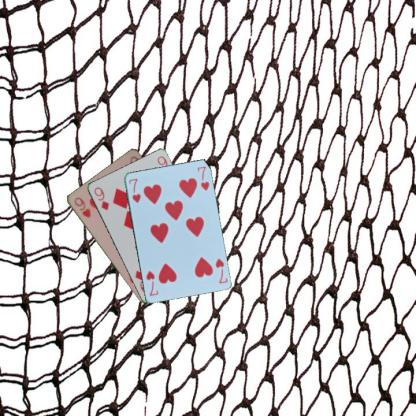7h: (126, 176, 142, 204), (212, 256, 228, 284)
9d: (92, 184, 110, 212)
9h: (71, 195, 92, 219)
